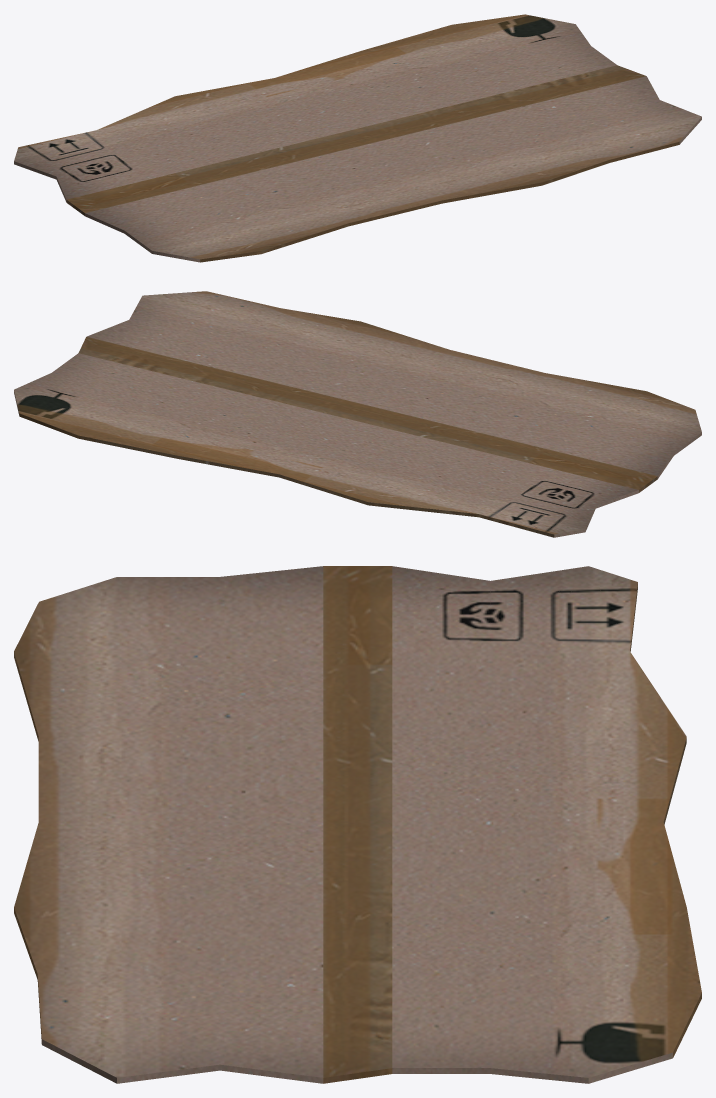
Rendered from CardboardBoxFlattened3_SM.fbx.
3 views of the same model, one above another, from view 1: azimuth 30°, elevation 25°; view 2: azimuth 150°, elevation 25°; view 3: azimuth 270°, elevation 25° (orthographic). The views are drawn at different scales.
Parts seen in each view (by area): view 1: Box004; view 2: Box004; view 3: Box004.
Boxes of the visible parts, x1,y1,x2,y2 form: Box004: (14,14,701,262); Box004: (14,291,701,537); Box004: (14,566,701,1083).
Bounding box in the file's own units: 117 × 0.6297 × 66.43.
